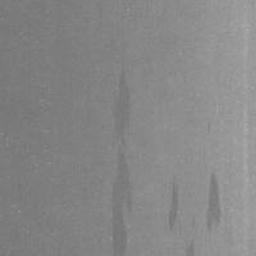Water spot: (109, 68, 133, 256), (206, 174, 223, 234), (168, 182, 180, 233), (186, 239, 196, 256), (192, 215, 196, 225)
